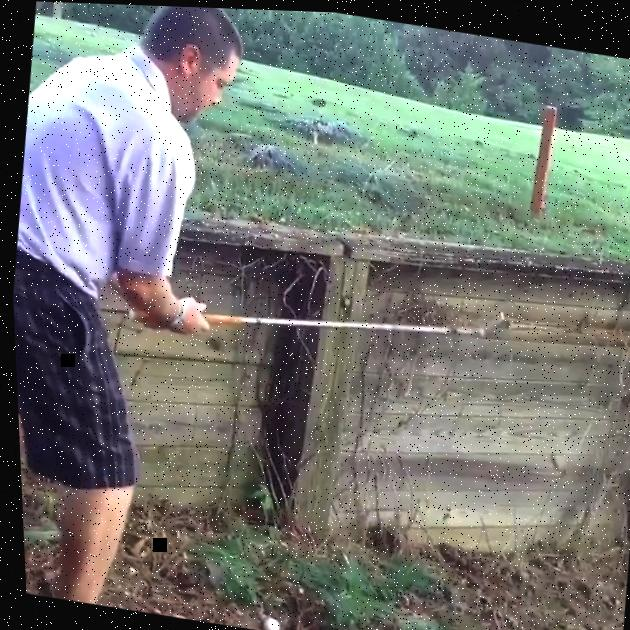ClubHead: (470, 311, 510, 341)
GolfBall: (254, 614, 276, 630)
